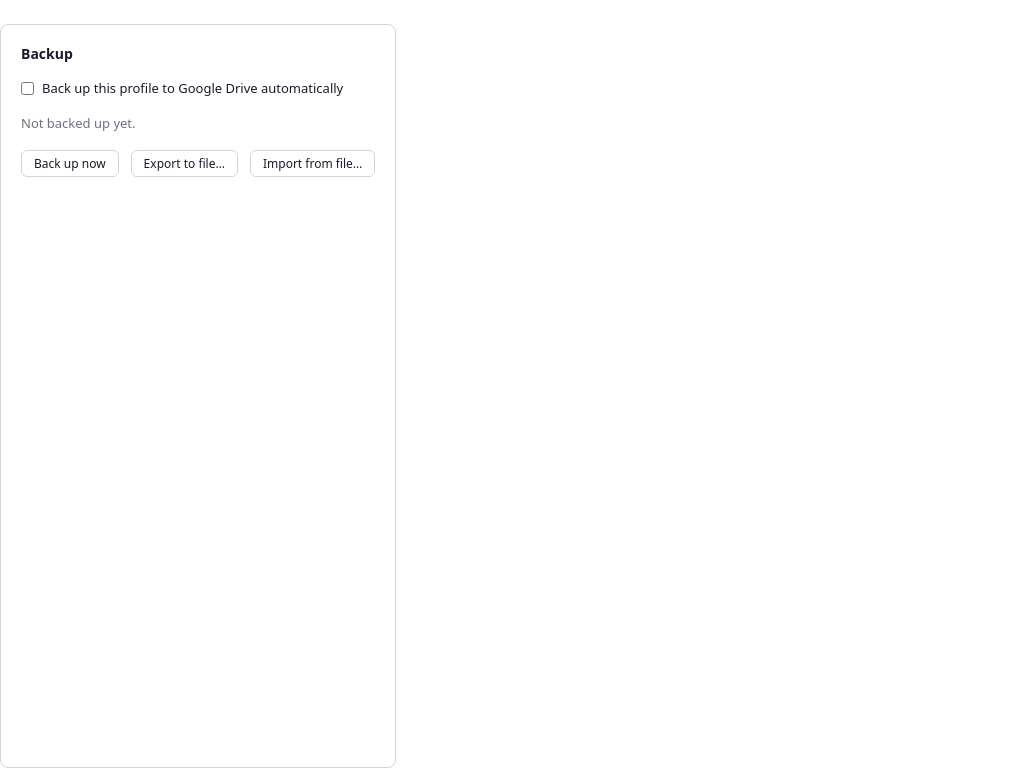
BackupSection — import from file › cancel: nothing imported, dialog closed
This screenshot has width=1024, height=768.
Click the button "Import from file…" at (313, 163), box x1=250 y1=150 x2=375 y2=176
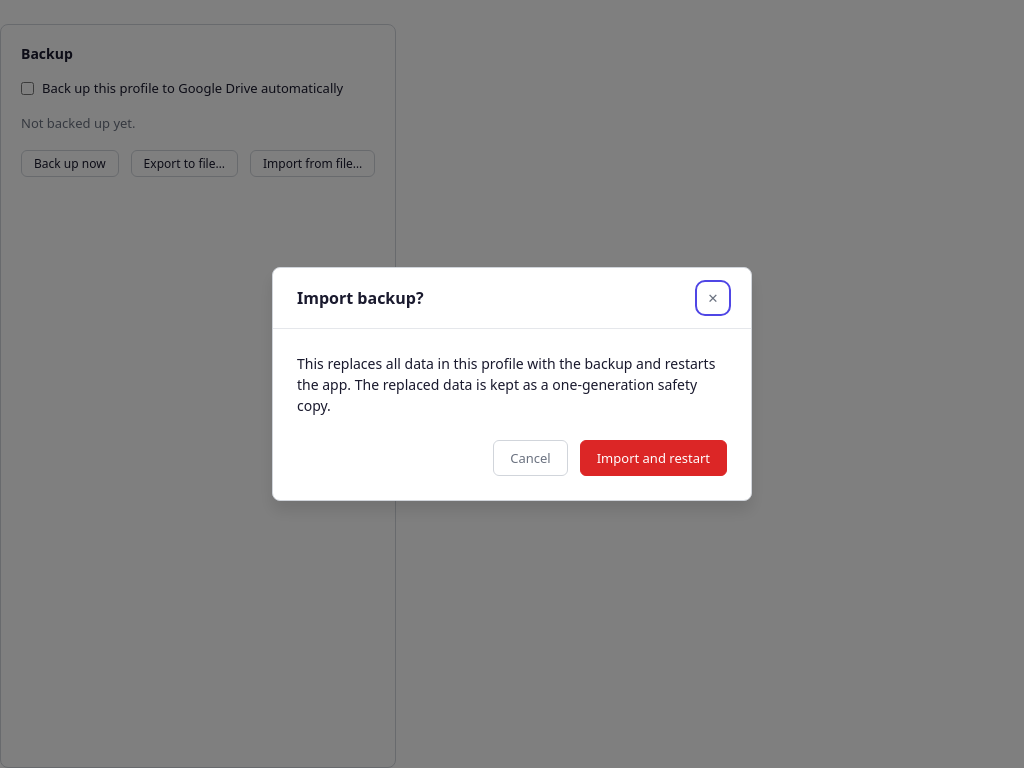
Click the button "Cancel" at (530, 458), box x1=493 y1=440 x2=568 y2=476
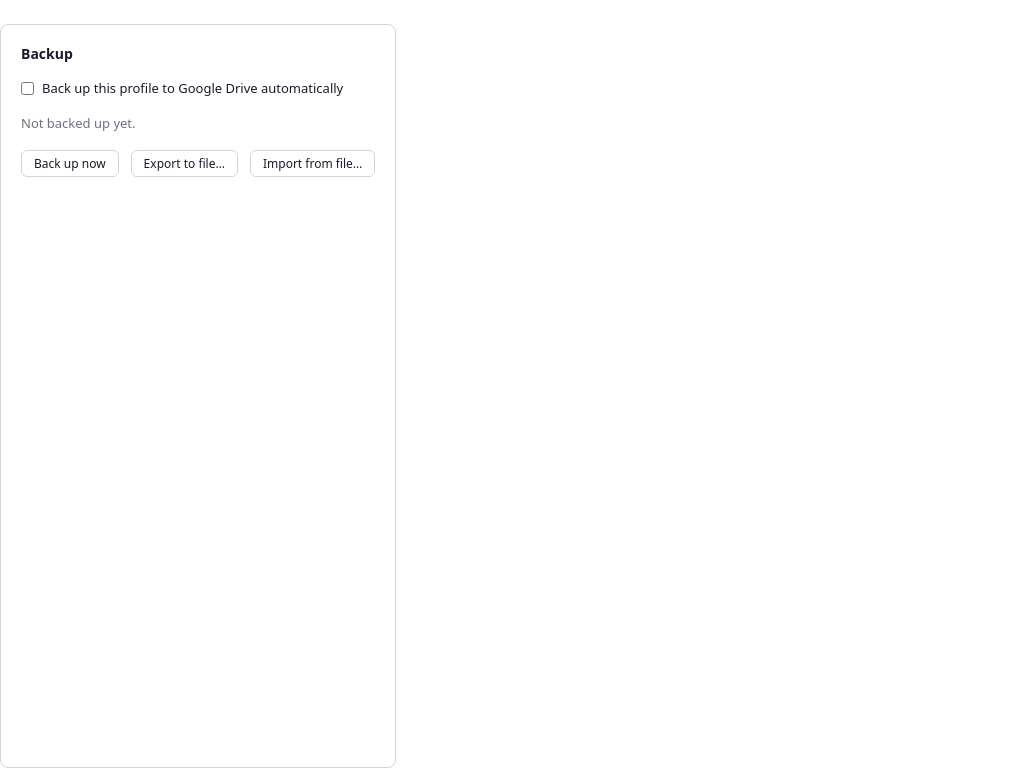
Expected: the dialog is gone
